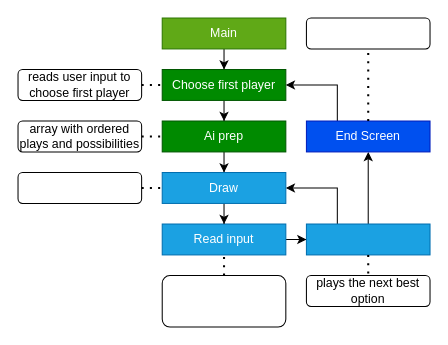
Image size: 448x345. Some labels were removed from this diagram. The centre of each missing label's shape, as x and y in pixels:
Ai input: the point at 367,239
draws game state on screen: the point at 79,187
Draws result: the point at 367,33
Reads player input and updates game state: the point at 223,300
